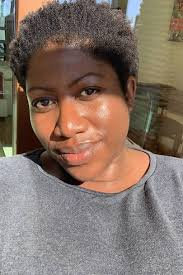middle_eastern_Female: (24, 36, 147, 181)
